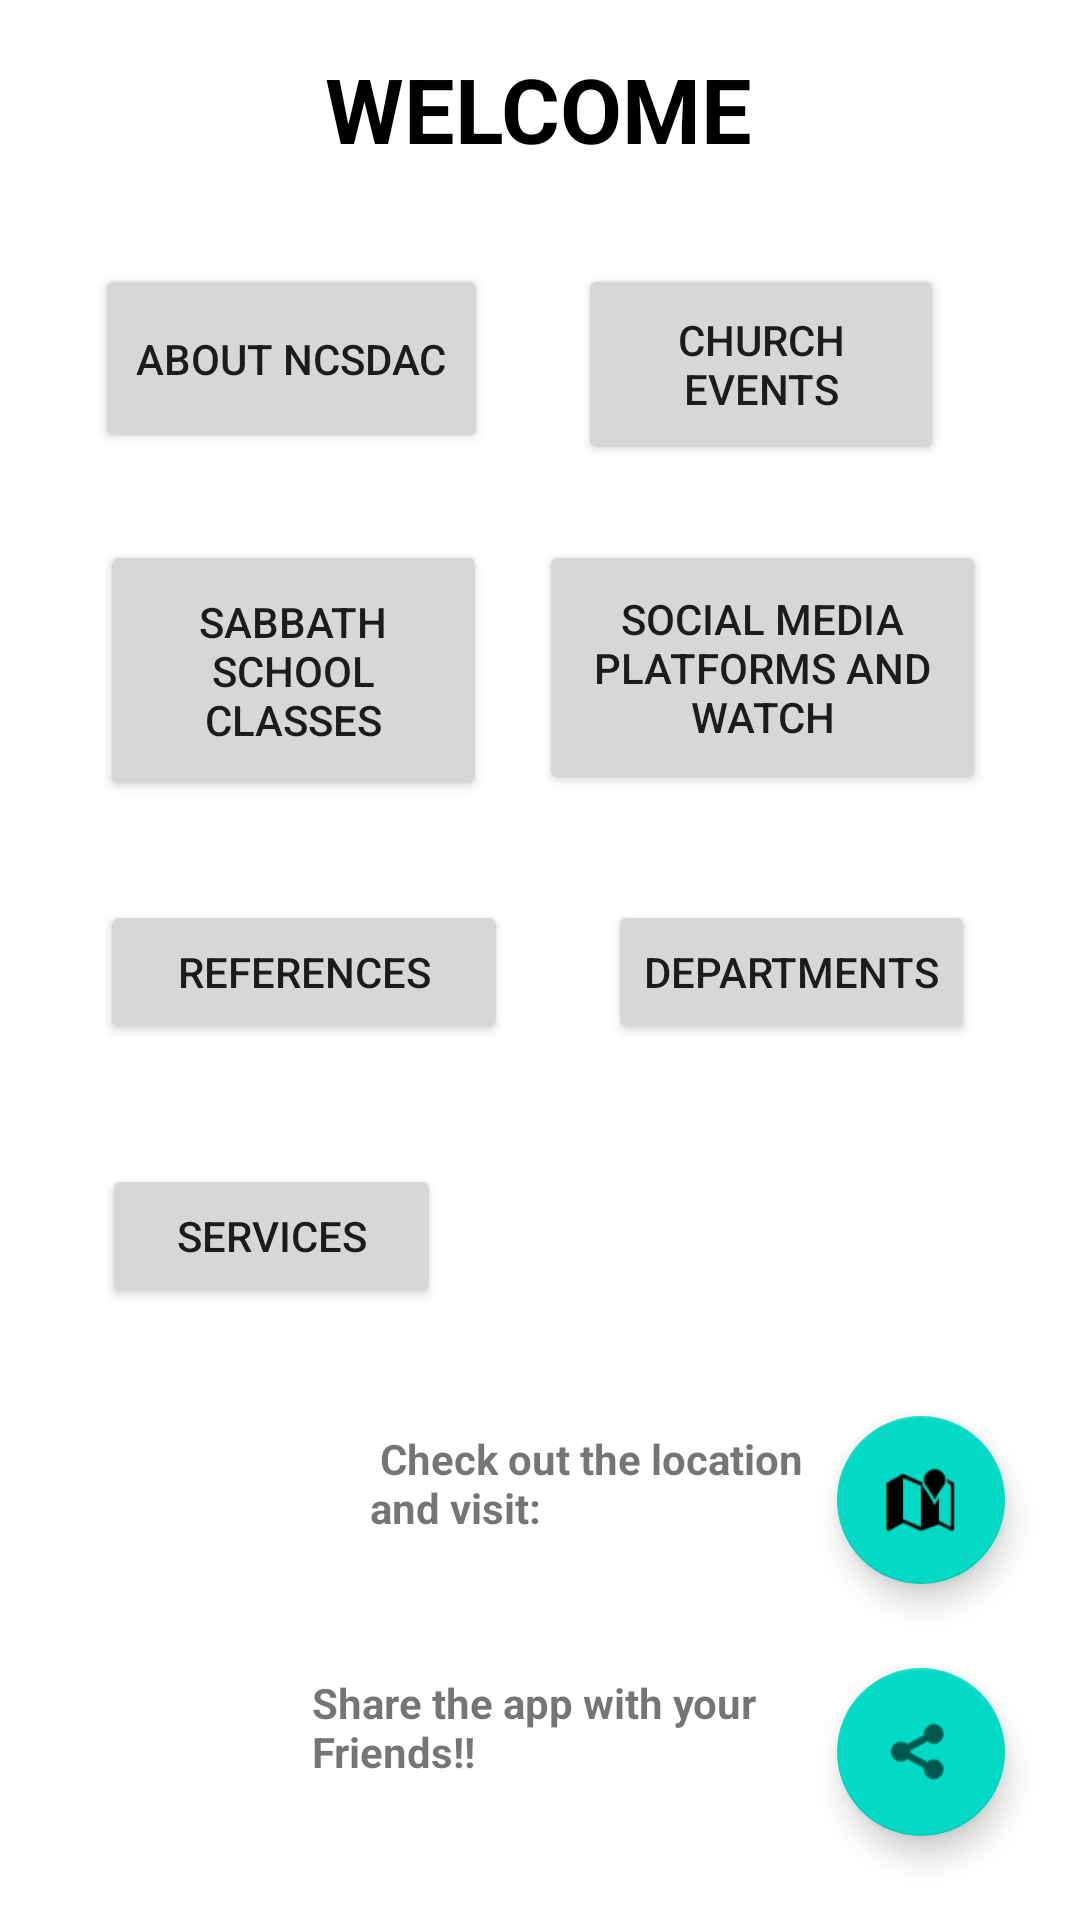

Icon bounding boxes for this 1080w x 1920h phone screenshot, format (x1, y1, x2, y2):
map: (837, 1416, 1005, 1584)
